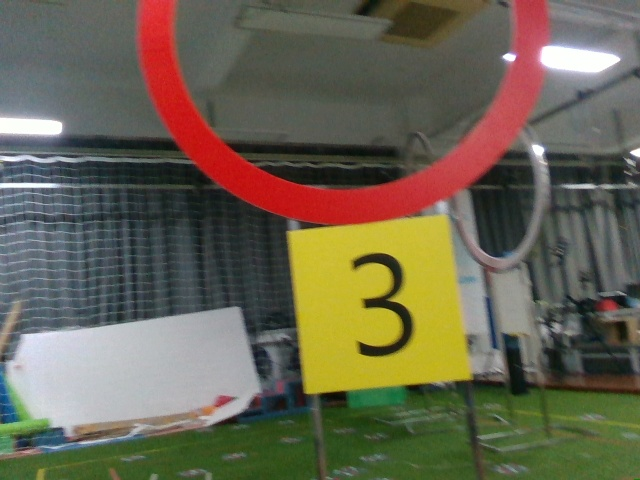target: (299, 229, 462, 377)
